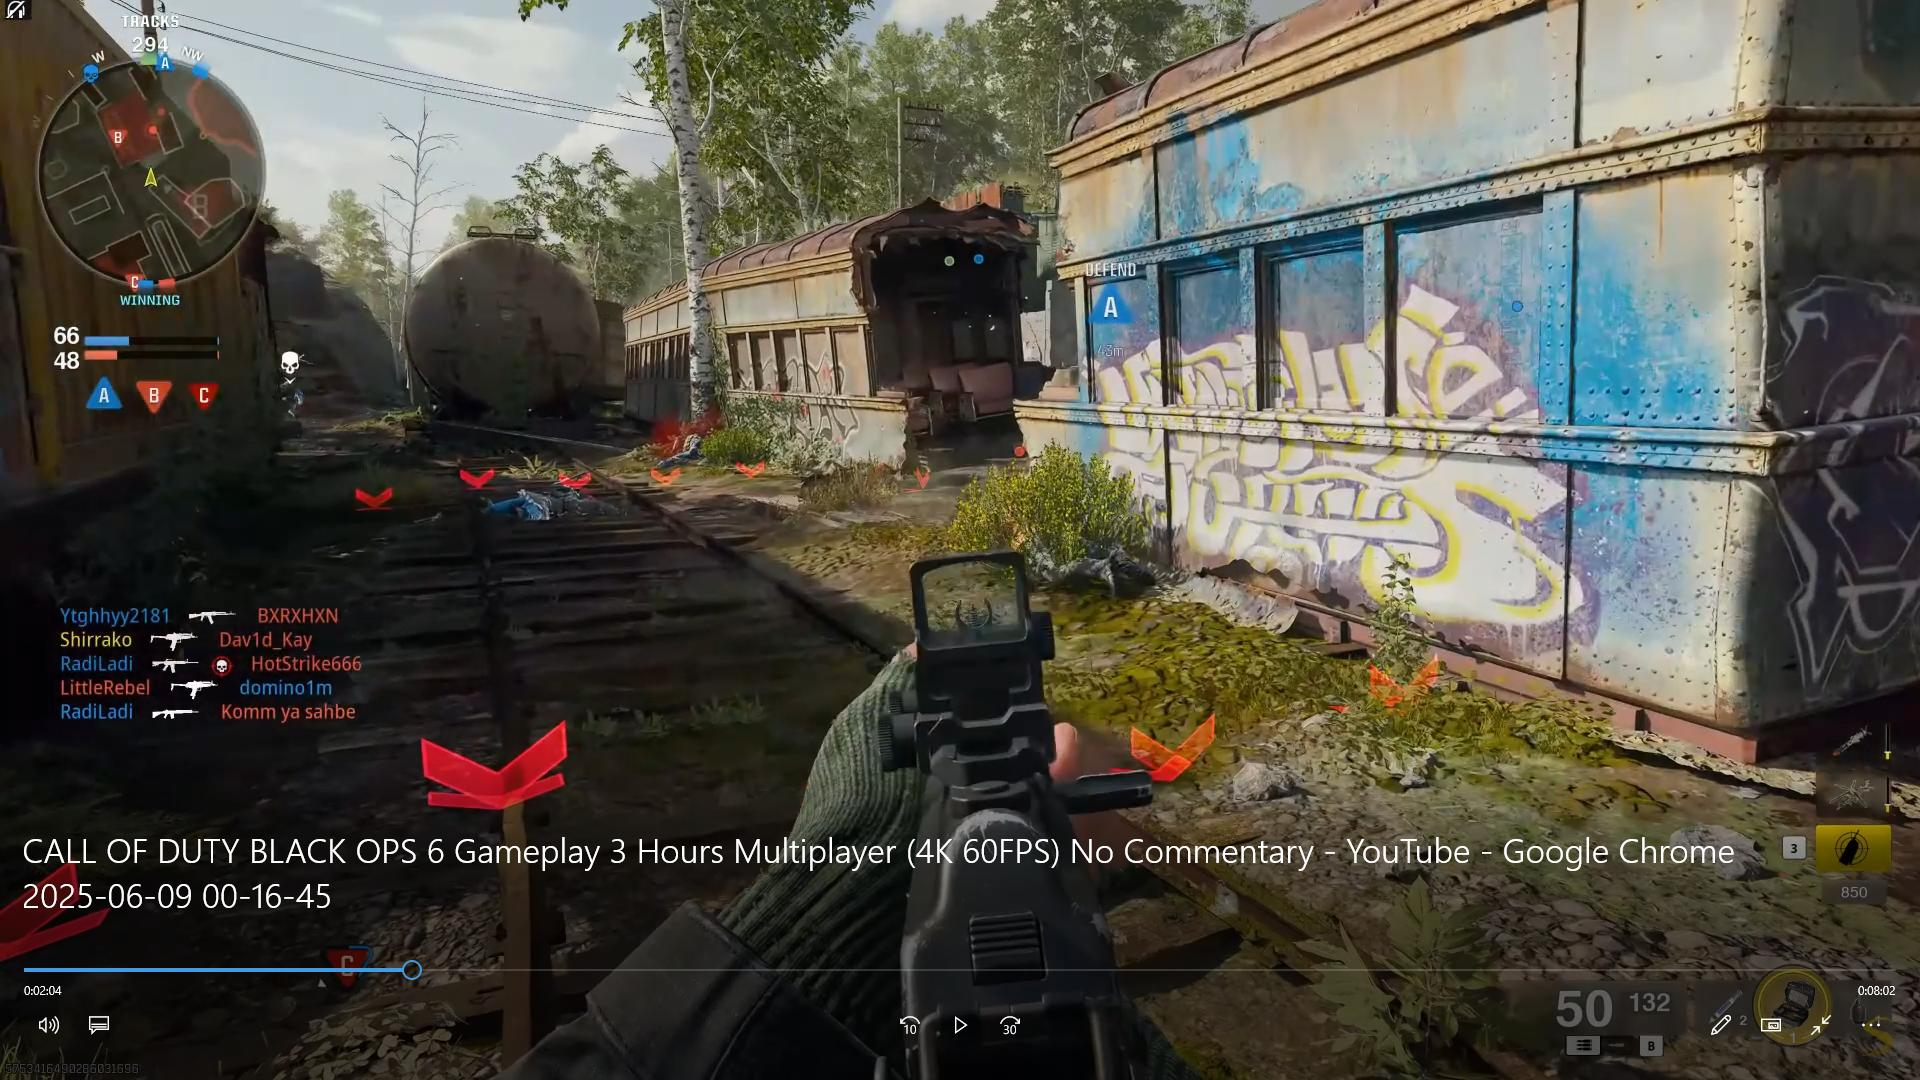Enemy: (971, 484, 1172, 596)
